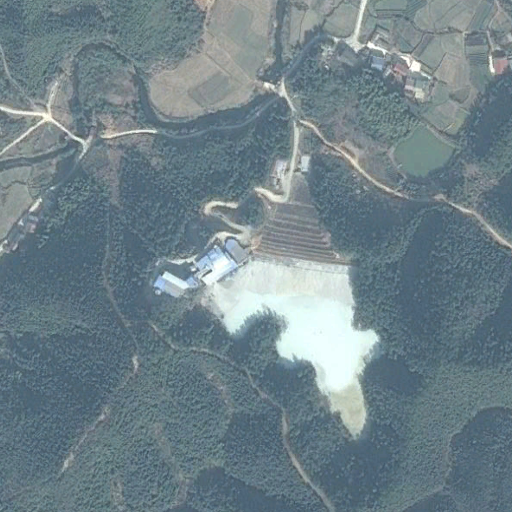tp: (207, 180, 380, 437)
